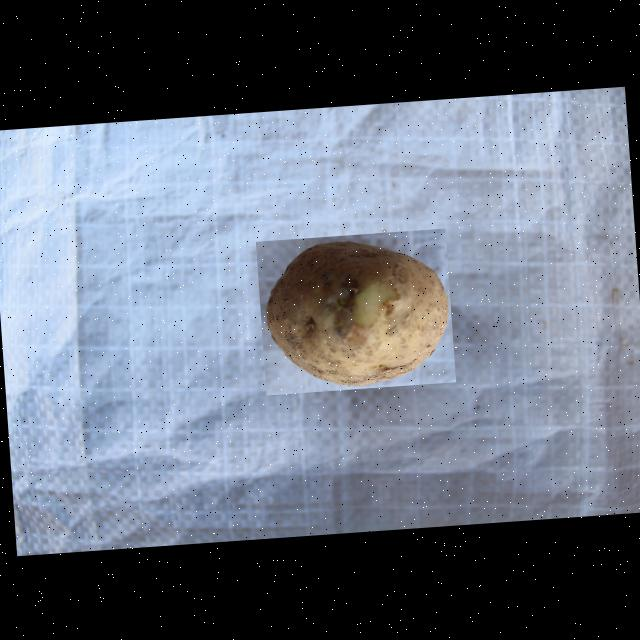Diseased-fungal potato: (255, 227, 454, 394)
